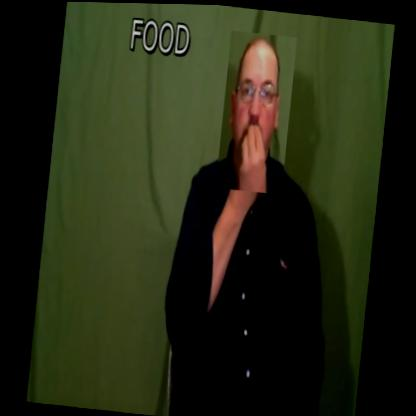Food: (216, 29, 297, 194)
